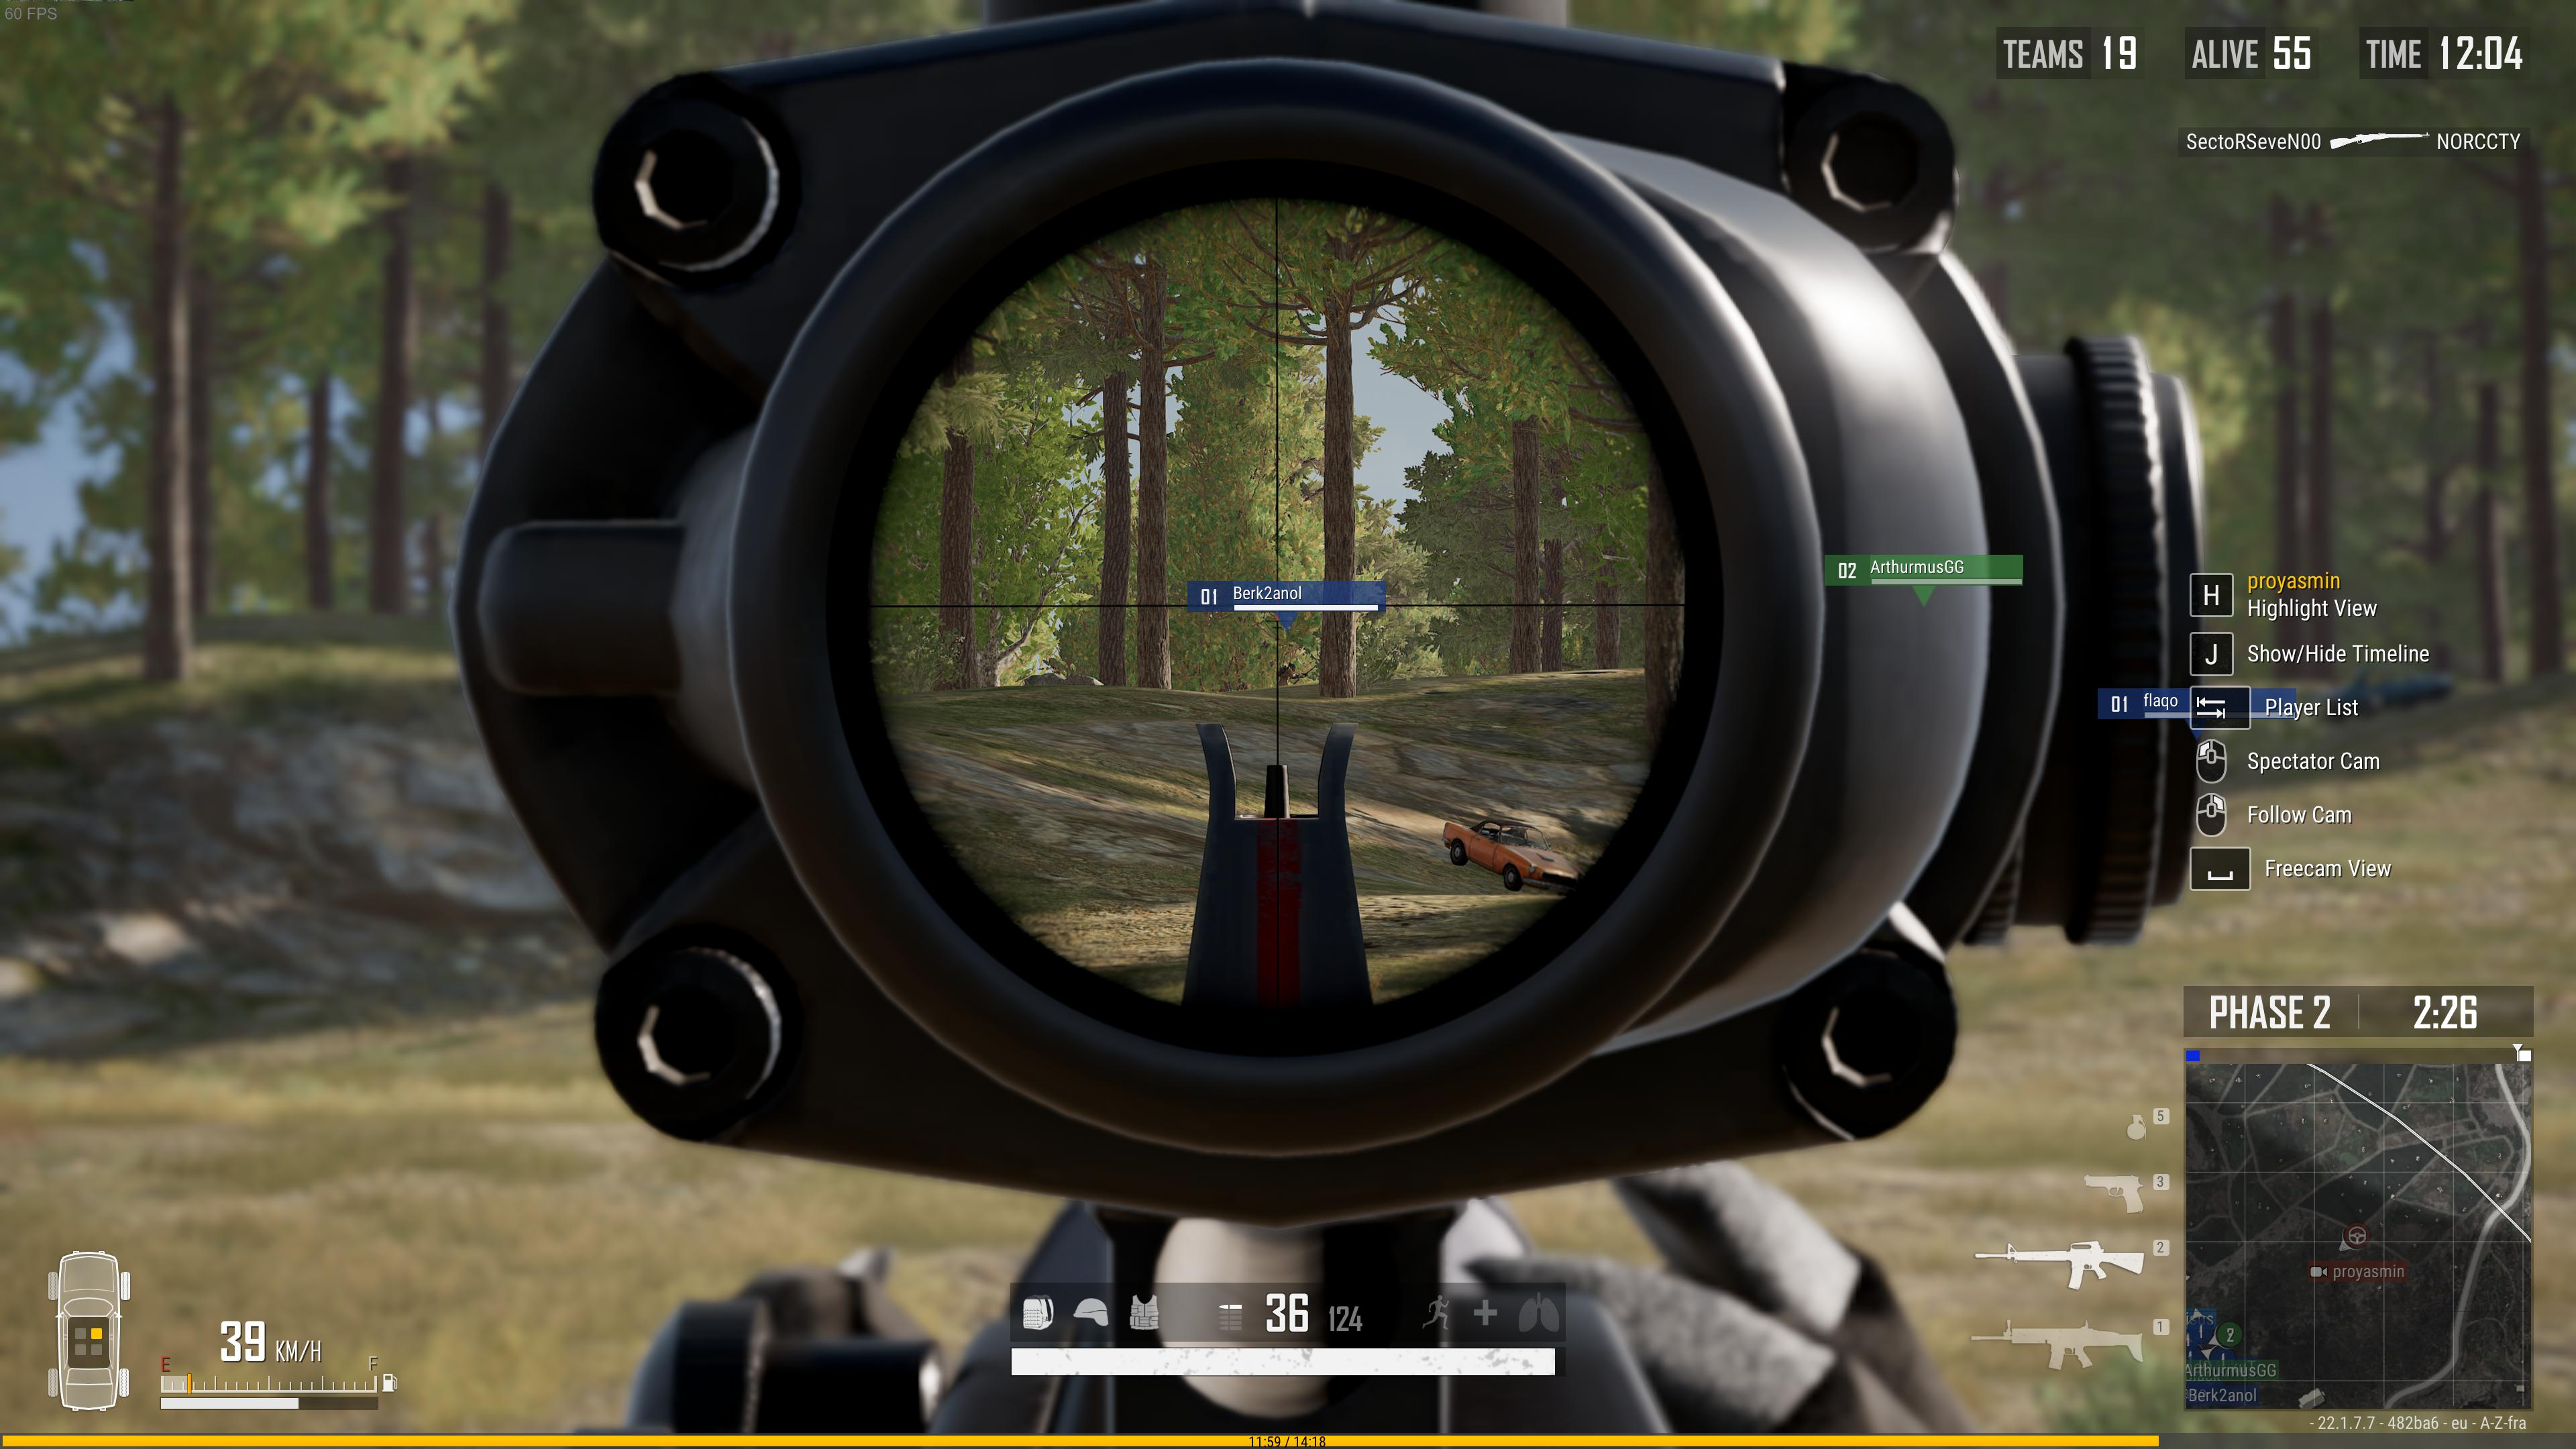enemy: (1277, 662, 1304, 685)
enemy_head: (1286, 662, 1297, 672)
